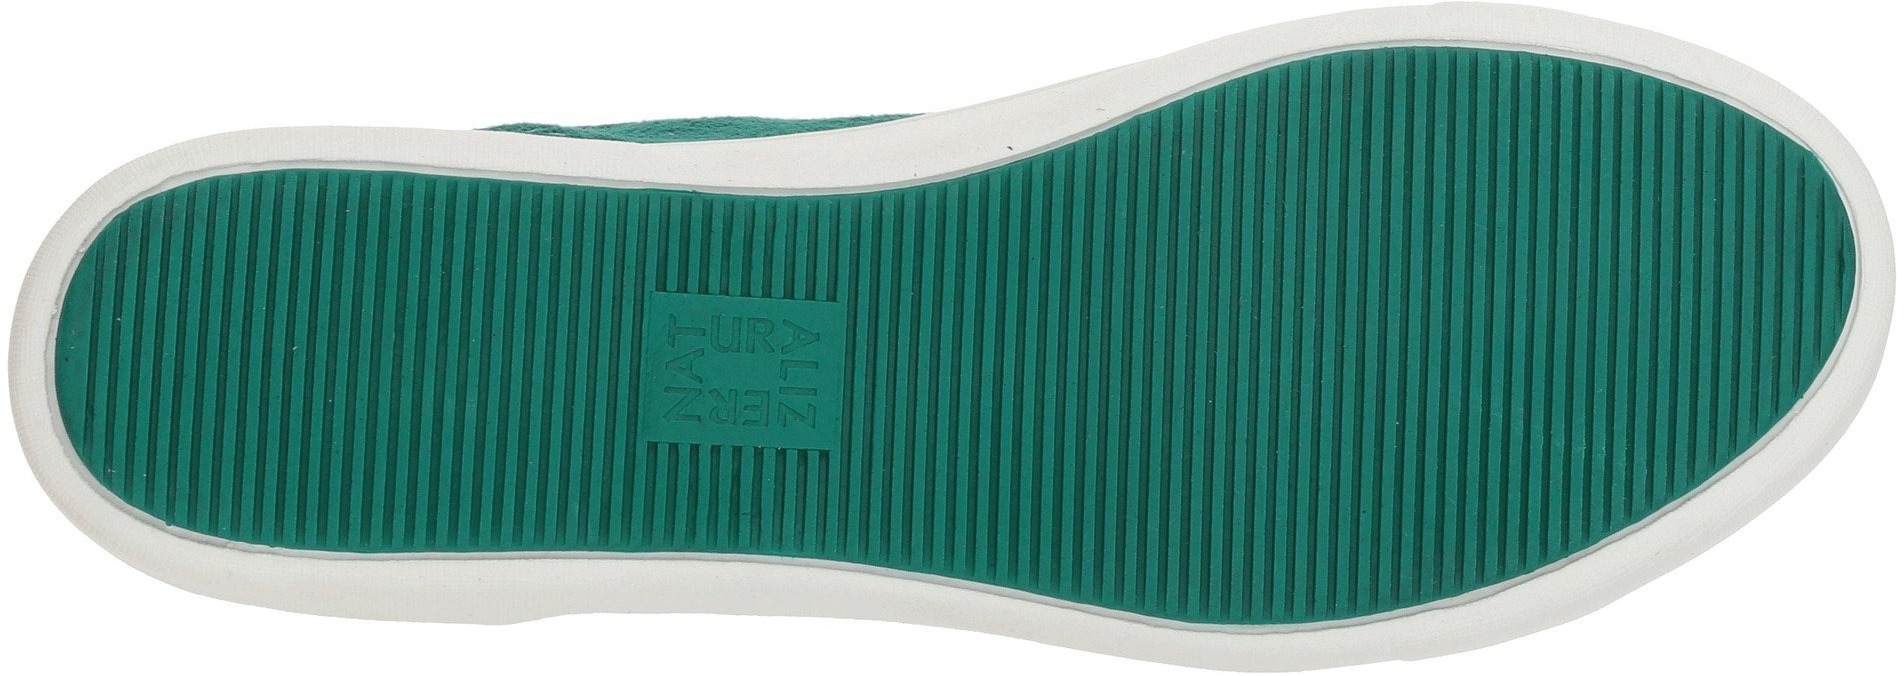exclude: (467, 58, 942, 144)
line: (1259, 83, 1698, 495), (846, 194, 1268, 583), (237, 174, 640, 551), (589, 262, 909, 498), (72, 257, 266, 450), (1702, 186, 1843, 318)
quad: (589, 262, 909, 498), (633, 285, 854, 459)
text: (589, 262, 909, 498), (648, 296, 831, 450)
